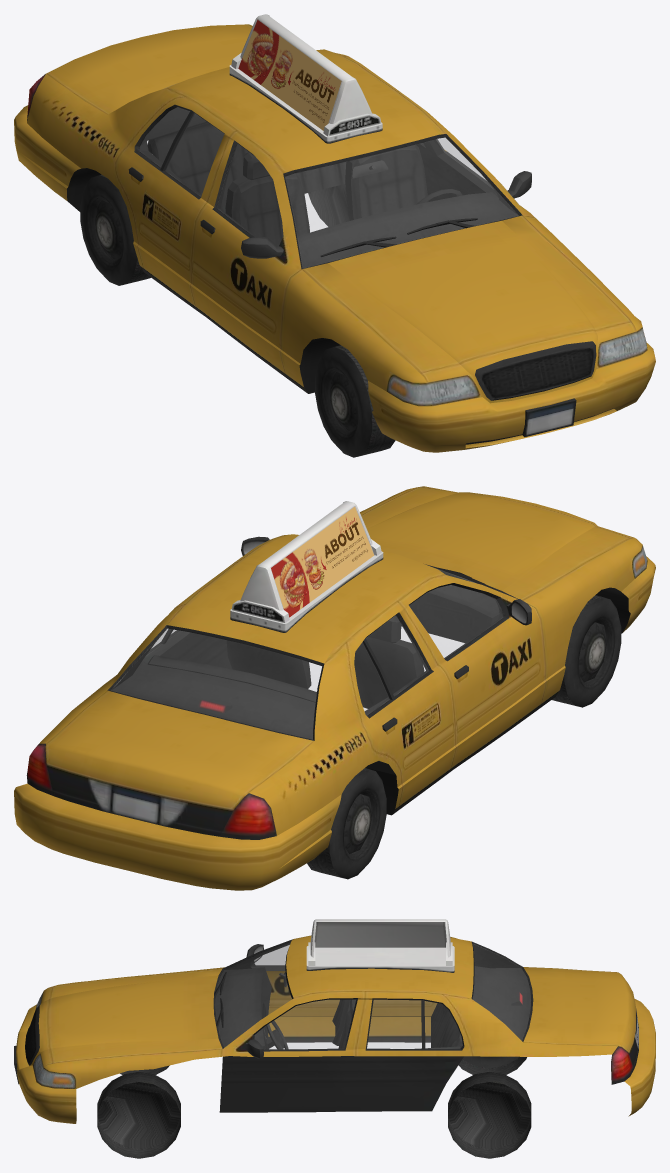
The model's file is taxi_with_ad_reduced-transformed.glb.
3 views of the same model, one above another, from view 1: azimuth 30°, elevation 25°; view 2: azimuth 150°, elevation 25°; view 3: azimuth 270°, elevation 25° (orthographic). The views are drawn at different scales.
Parts seen in each view (by area): view 1: TaxiCar01.001, TaxiCar01, BurgerBillboard, WheelFR, WheelBR, WheelBL; view 2: TaxiCar01.001, TaxiCar01, BurgerBillboard, WheelBR, WheelFR; view 3: TaxiCar01.001, TaxiCar01, WheelFL, WheelBL, WheelBR.
Part boxes in pixels (x1,y1,x2,y2): TaxiCar01.001: (14, 14, 655, 452); TaxiCar01: (140, 85, 518, 267); BurgerBillboard: (238, 19, 341, 130); WheelFR: (315, 345, 395, 457); WheelBR: (80, 174, 150, 285); WheelBL: (308, 184, 349, 226); TaxiCar01.001: (14, 486, 655, 890); TaxiCar01: (112, 568, 502, 738); BurgerBillboard: (271, 507, 374, 617); WheelBR: (307, 768, 386, 879); WheelFR: (552, 595, 621, 707); TaxiCar01.001: (14, 919, 655, 1123); TaxiCar01: (216, 943, 530, 1049); WheelFL: (97, 1072, 180, 1158); WheelBL: (448, 1071, 531, 1158); WheelBR: (458, 1056, 526, 1074).
Size of the model in its own units: 0.7791 by 0.6634 by 2.
Materials: 3 (3 with a texture image).
